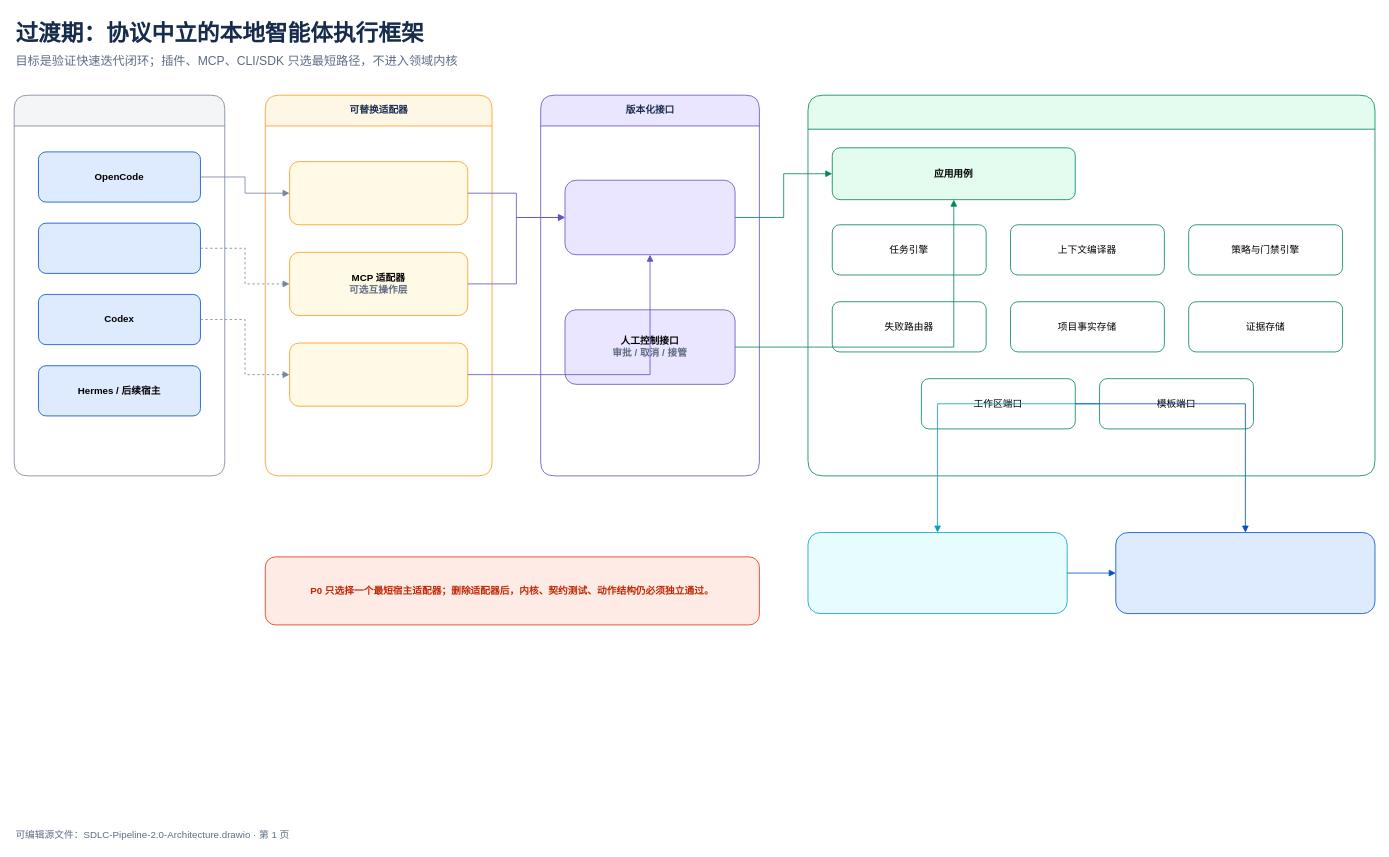
The diagram is 1389 pixels wide and 857 high, and some of its shapes have lost their labels. Each missing label, with the box of its shape:
Claude Code: (38, 222, 200, 273)
CLI / 本地 SDK 参考适配器: (289, 342, 468, 406)
协议中立的 SDLC 内核: (807, 94, 1375, 476)
外部智能体宿主: (13, 94, 225, 476)
智能体动作接口 7 个以内的深动作: (564, 179, 735, 255)
框架包 Electron · 假实现 · 后续框架: (807, 532, 1067, 614)
轻量宿主插件 技能 / 钩子 / 权限: (289, 161, 468, 225)
项目边界 Git 仓库 · 任务工作树 · 应用/测试运行环境: (1115, 532, 1375, 614)
